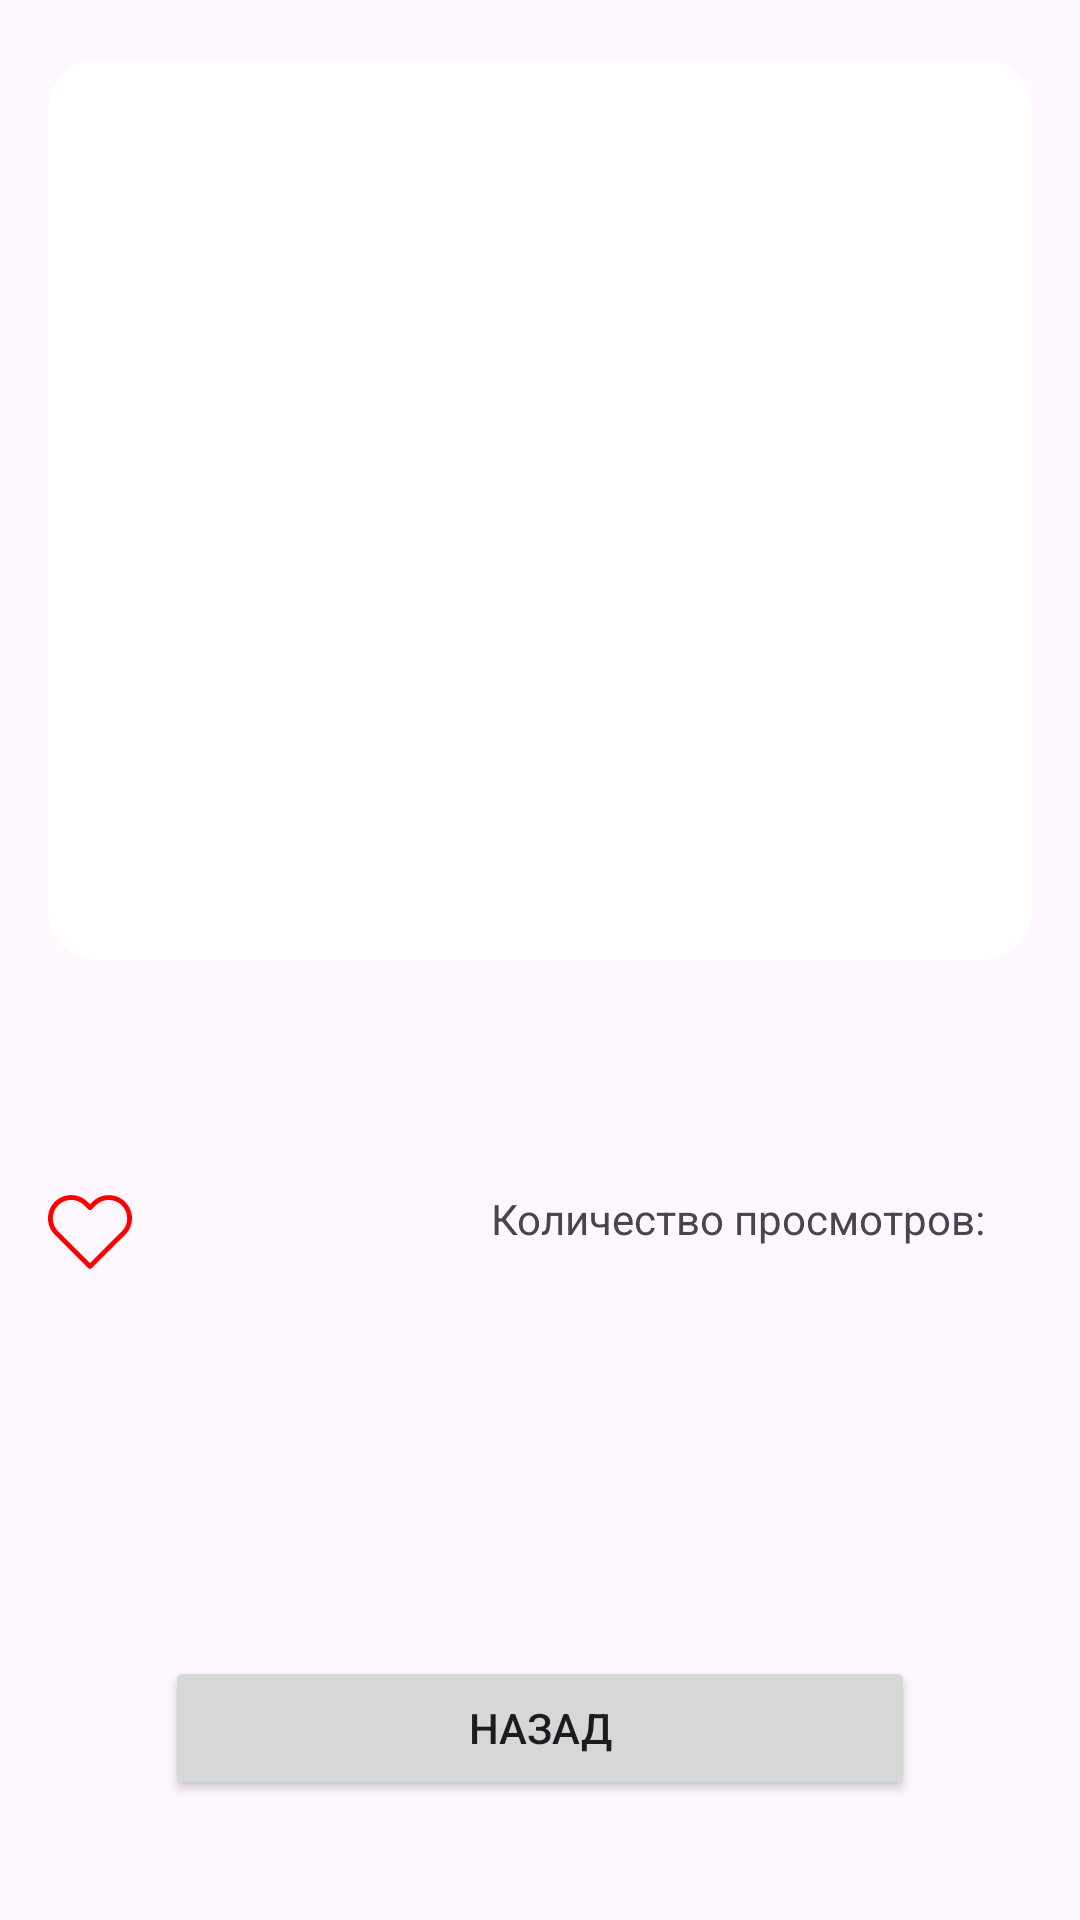

Icon click points for this 1080 × 1920 phone screenshot, format point (x, y):
heart: point (90, 1232)
